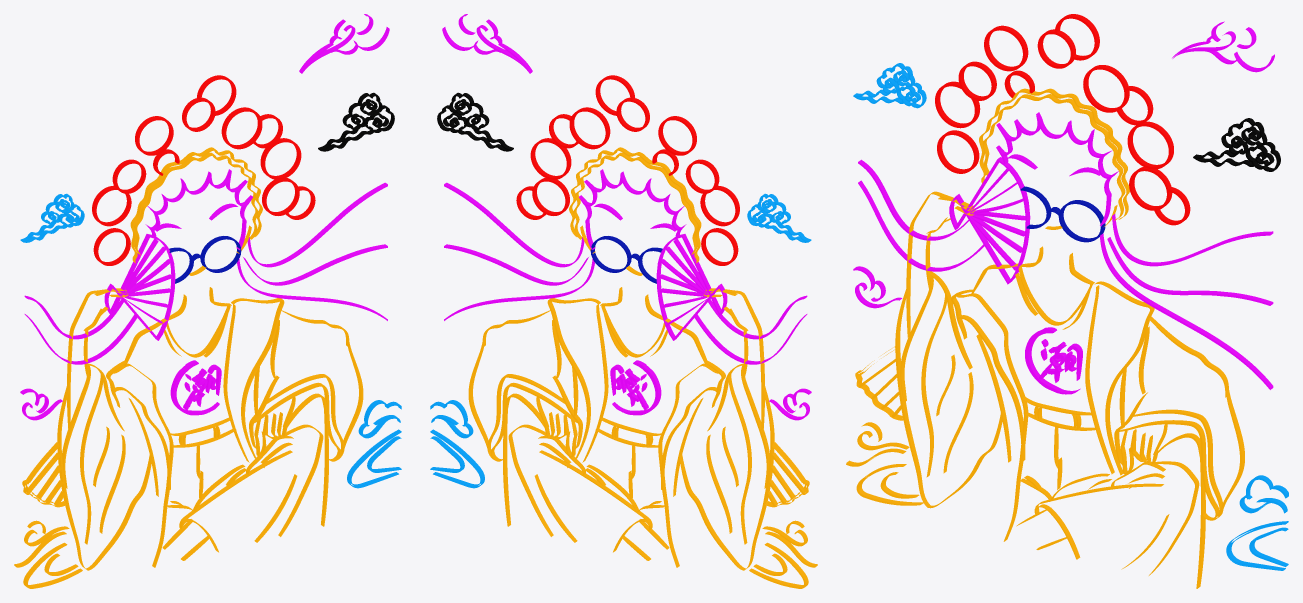
3 renders of one model, left to right at view 1: azimuth 30°, elevation 25°; view 2: azimuth 150°, elevation 25°; view 3: azimuth 330°, elevation 25°, orthographic. The views are drawn at different scales.
Visible parts, largest first — view 1: q2; view 2: q2; view 3: q2.
Boxes of the visible parts, x1,y1,x2,y2 form: q2: (14,14,401,588); q2: (430,14,817,588); q2: (846,14,1288,588).
Bounding box in the file's own units: 1626 × 2020 × 20.13.
